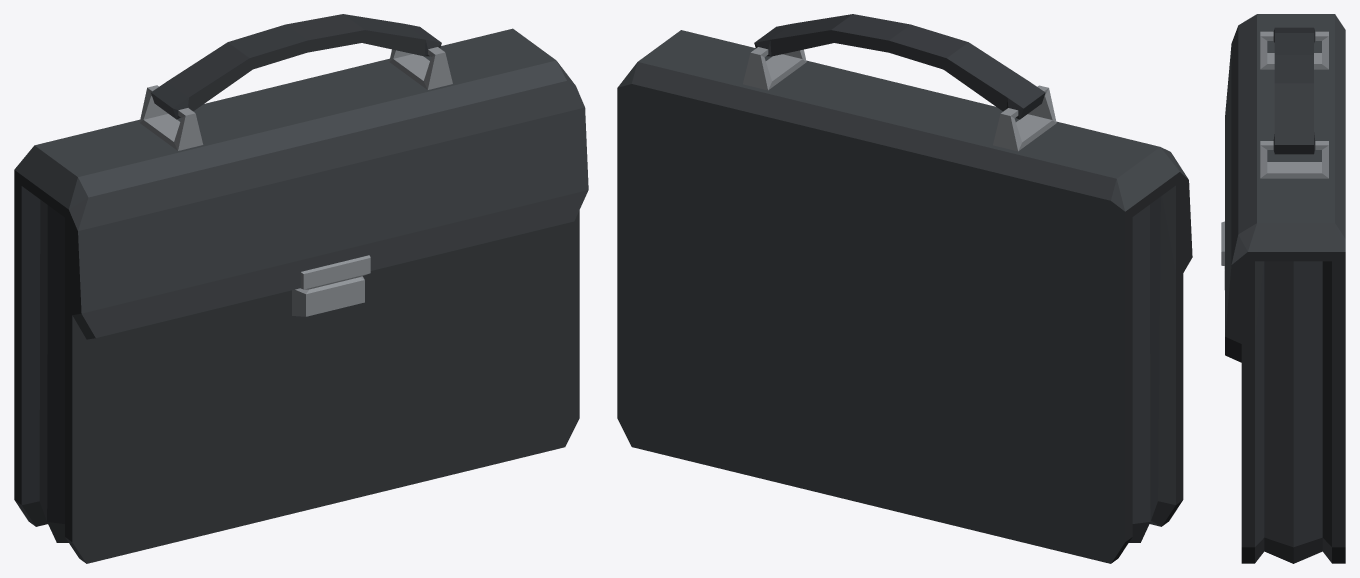
The model's file is SM_Prop_Briefcase_01.fbx.
3 views of the same model, side by side, from view 1: azimuth 30°, elevation 25°; view 2: azimuth 150°, elevation 25°; view 3: azimuth 270°, elevation 25° (orthographic). The views are drawn at different scales.
Parts seen in each view (by area): view 1: SM_Prop_Briefcase_01; view 2: SM_Prop_Briefcase_01; view 3: SM_Prop_Briefcase_01.
Boxes of the visible parts, x1,y1,x2,y2 form: SM_Prop_Briefcase_01: (14,14,588,563); SM_Prop_Briefcase_01: (617,14,1192,563); SM_Prop_Briefcase_01: (1221,14,1345,563).
Size of the model in its own units: 54.74 by 46.56 by 12.95.
1 material, 1 textured.
